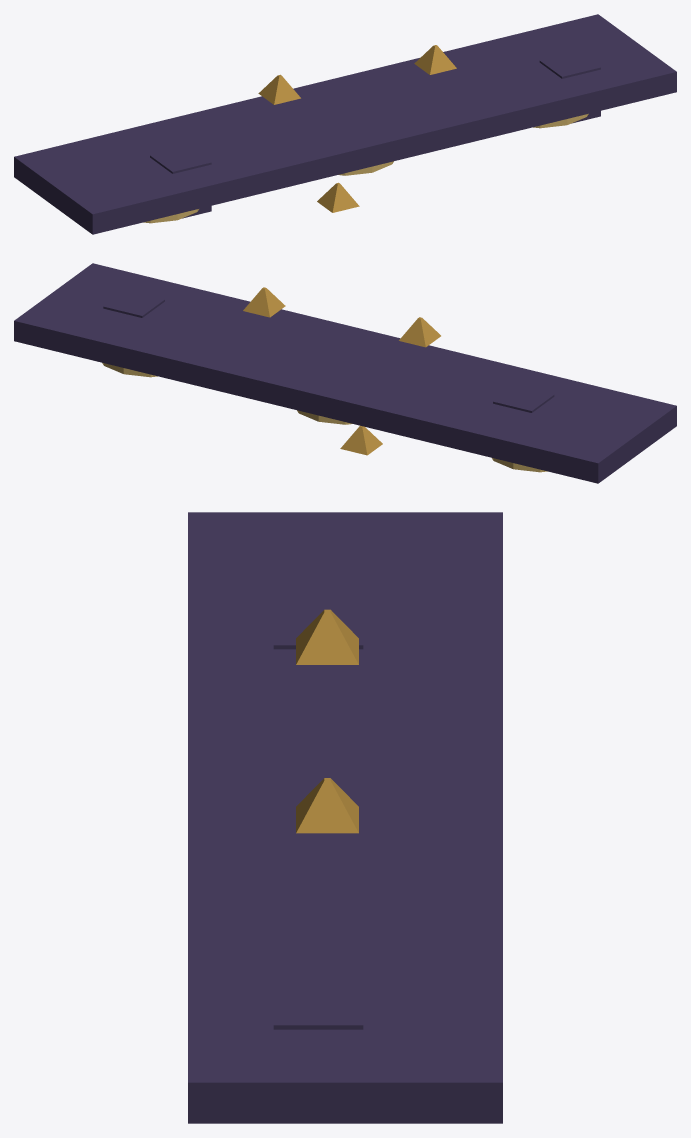
Rendered from moon_wall.obj.
The picture shows the model from 3 angles, top to bottom: view 1: azimuth 30°, elevation 25°; view 2: azimuth 150°, elevation 25°; view 3: azimuth 270°, elevation 25°; orthographic projection. The views are drawn at different scales.
Bounding box in the file's own units: 1.5 × 0.35 × 0.35.
